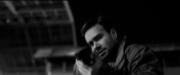gun: (74, 44, 93, 62)
